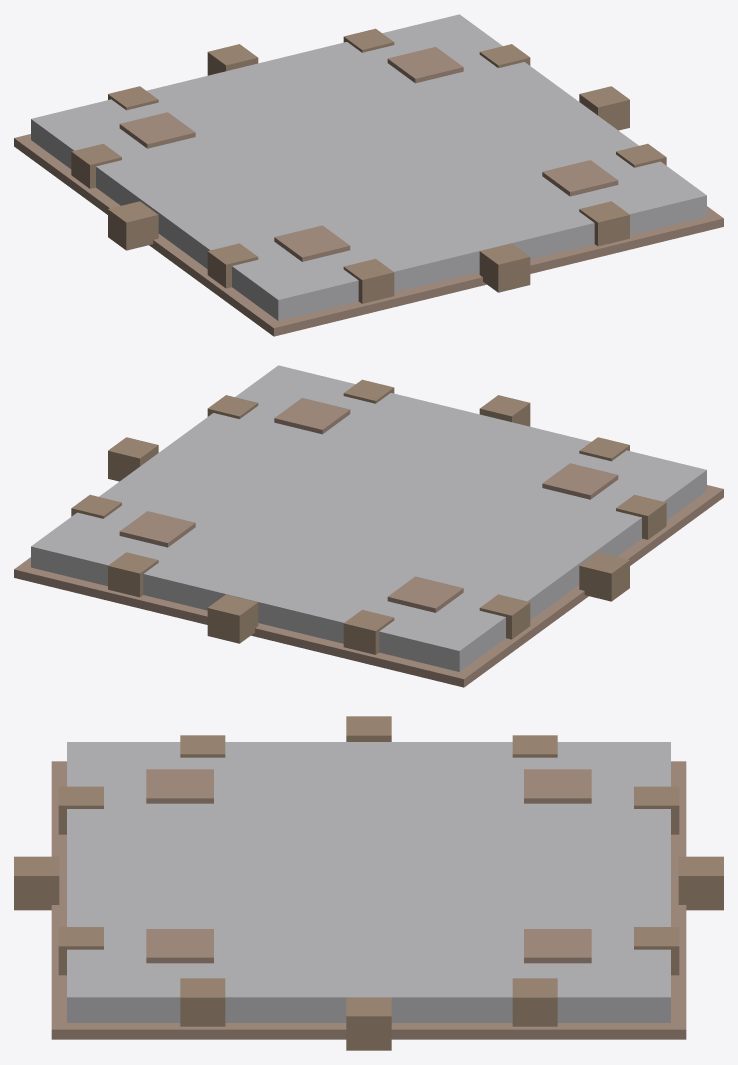
3 views of the same model, one above another, from view 1: azimuth 30°, elevation 25°; view 2: azimuth 150°, elevation 25°; view 3: azimuth 270°, elevation 25° (orthographic). The views are drawn at different scales.
Parts seen in each view (by area): view 1: base; view 2: base; view 3: base.
Part boxes in pixels (left/top/right/bottom): base: left=14, top=14, right=723, bottom=336; base: left=14, top=365, right=723, bottom=687; base: left=14, top=716, right=723, bottom=1050.
Bounding box in the file's own units: 9.4 × 0.615 × 9.4.
